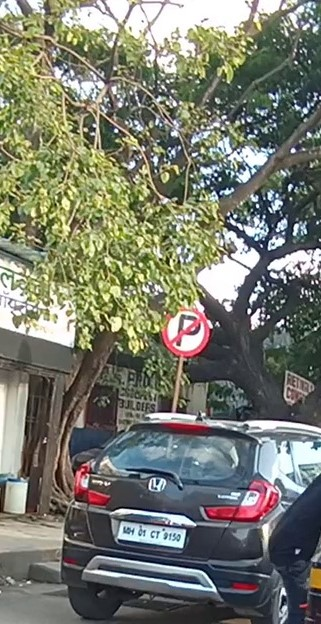MH01CT9150: (115, 521, 188, 552)
